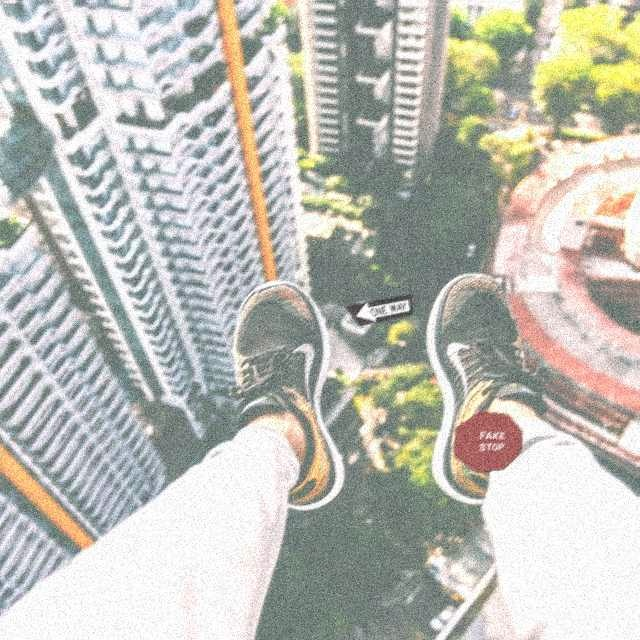FAKE_STOP: (454, 409, 524, 472)
ONE_WAY_ left: (345, 292, 415, 325)
